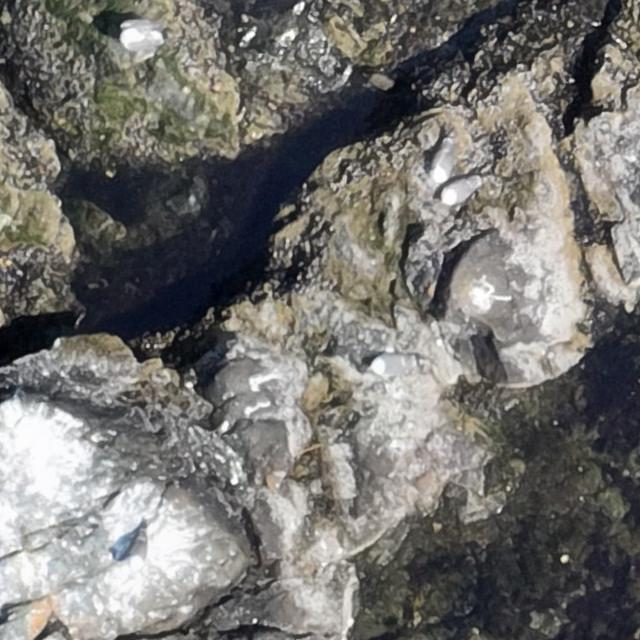umineko: (118, 18, 166, 62), (126, 520, 152, 577), (432, 140, 457, 184), (442, 180, 476, 202), (373, 356, 405, 374)
